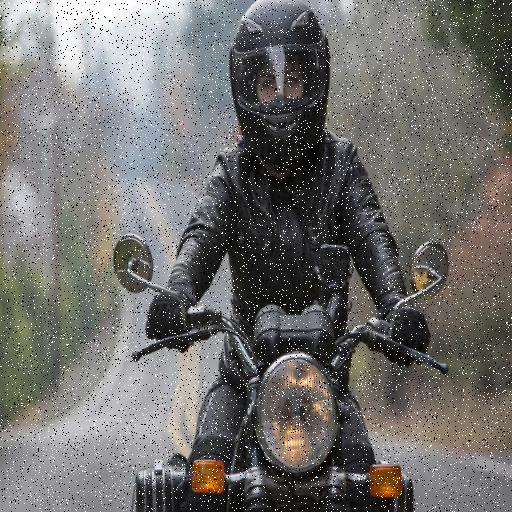Helmet: (220, 3, 341, 170)
Motor: (111, 242, 470, 512)
